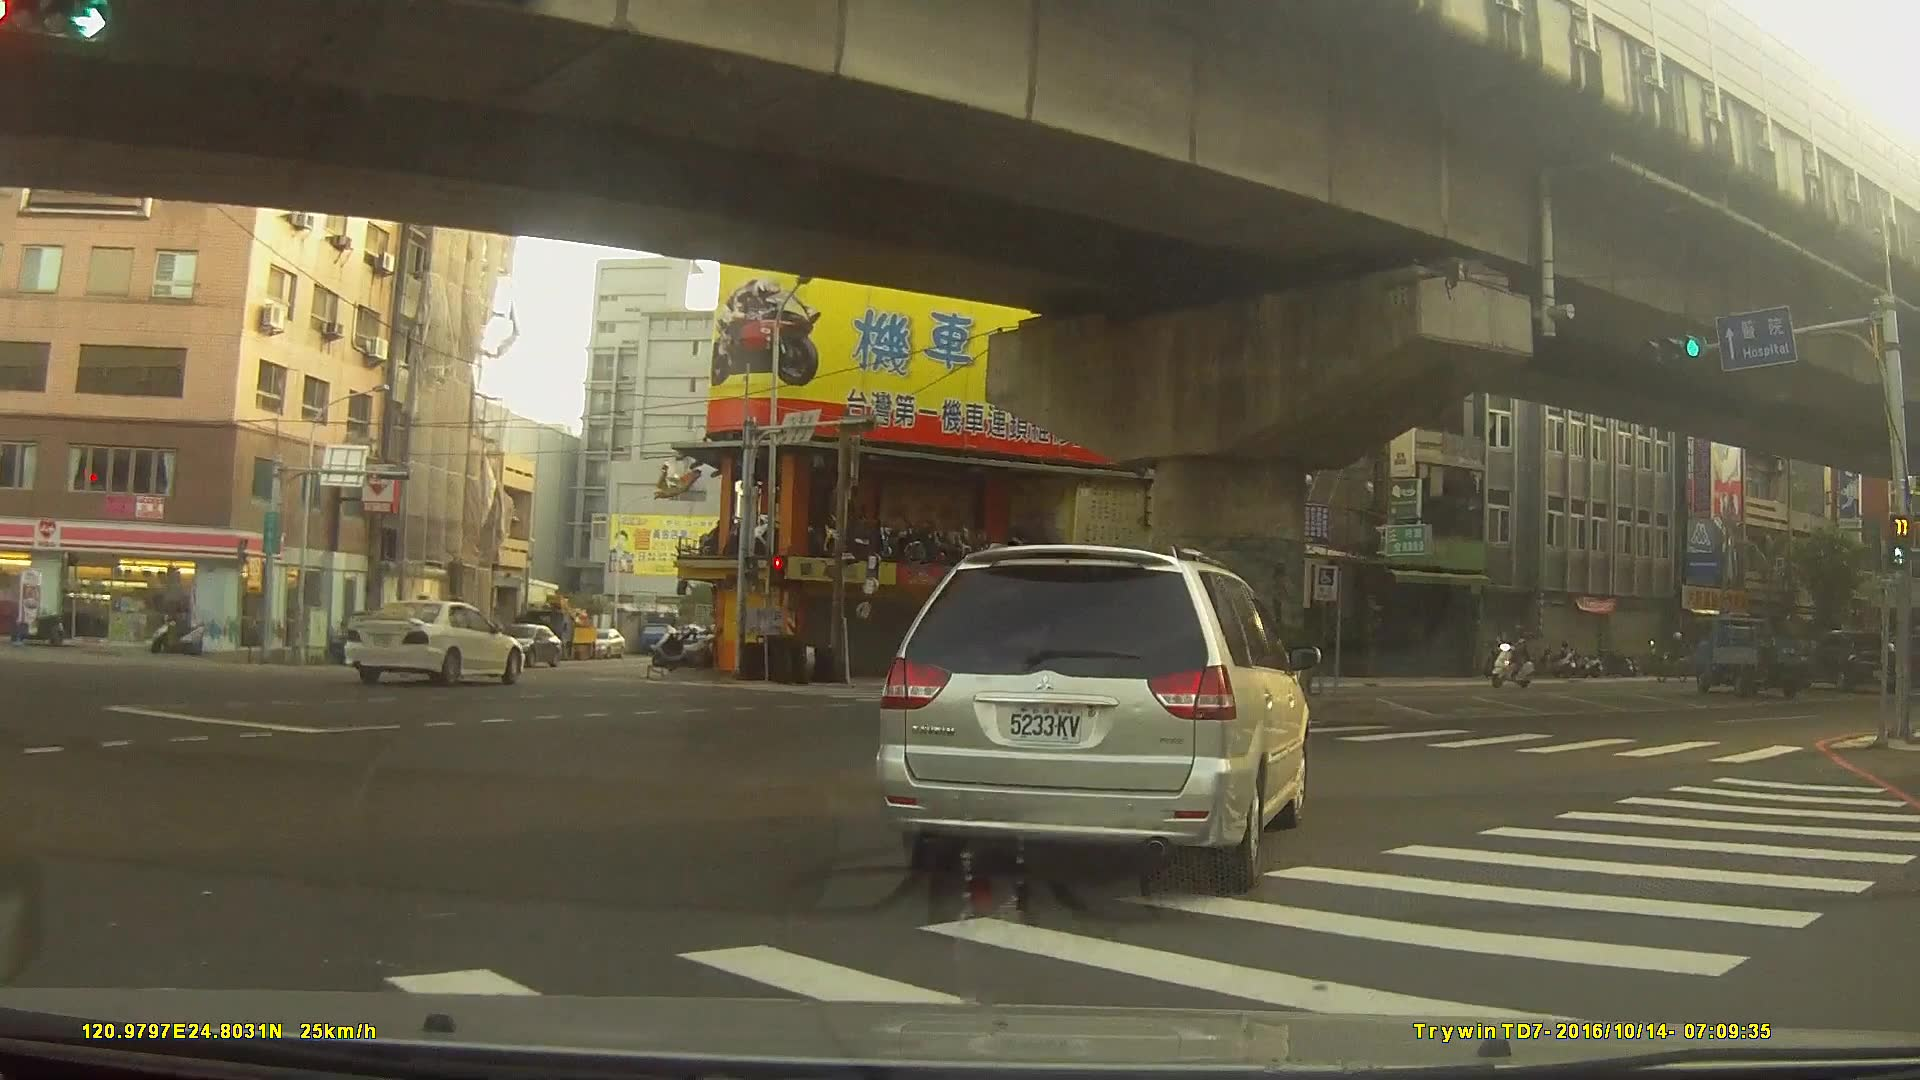rider: (1494, 631, 1539, 690), (1655, 630, 1697, 683)
vehicle: (875, 542, 1312, 891), (344, 599, 525, 685), (1690, 611, 1818, 696), (1797, 625, 1894, 690), (488, 620, 562, 665), (585, 625, 625, 656)
